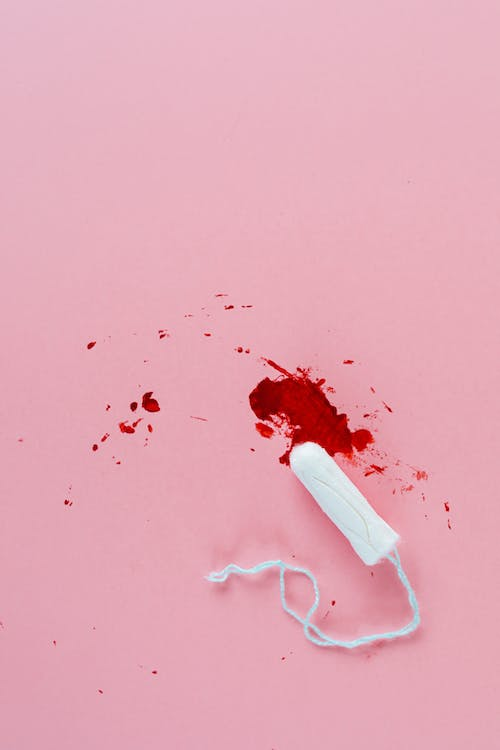blood: (0, 290, 454, 697)
